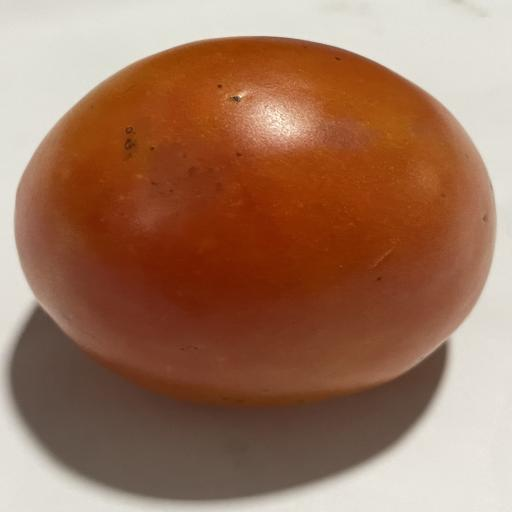unripe: (15, 37, 496, 406)
